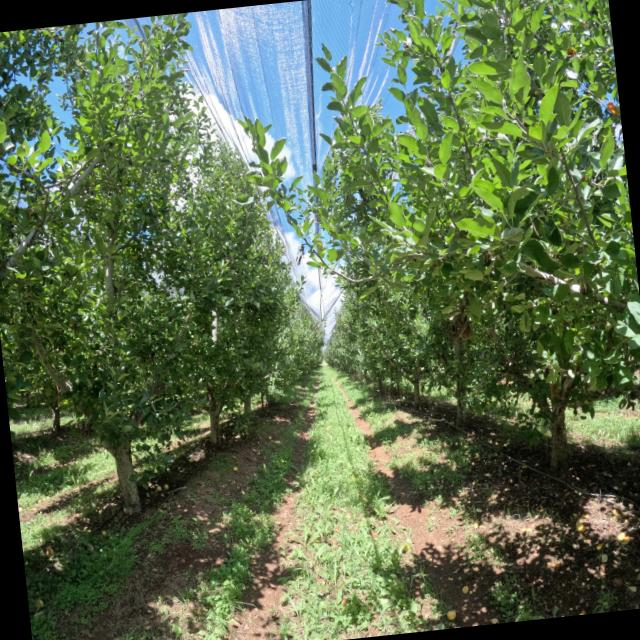-FireBlight-: (441, 292, 473, 343), (294, 244, 305, 264), (155, 383, 169, 393)
